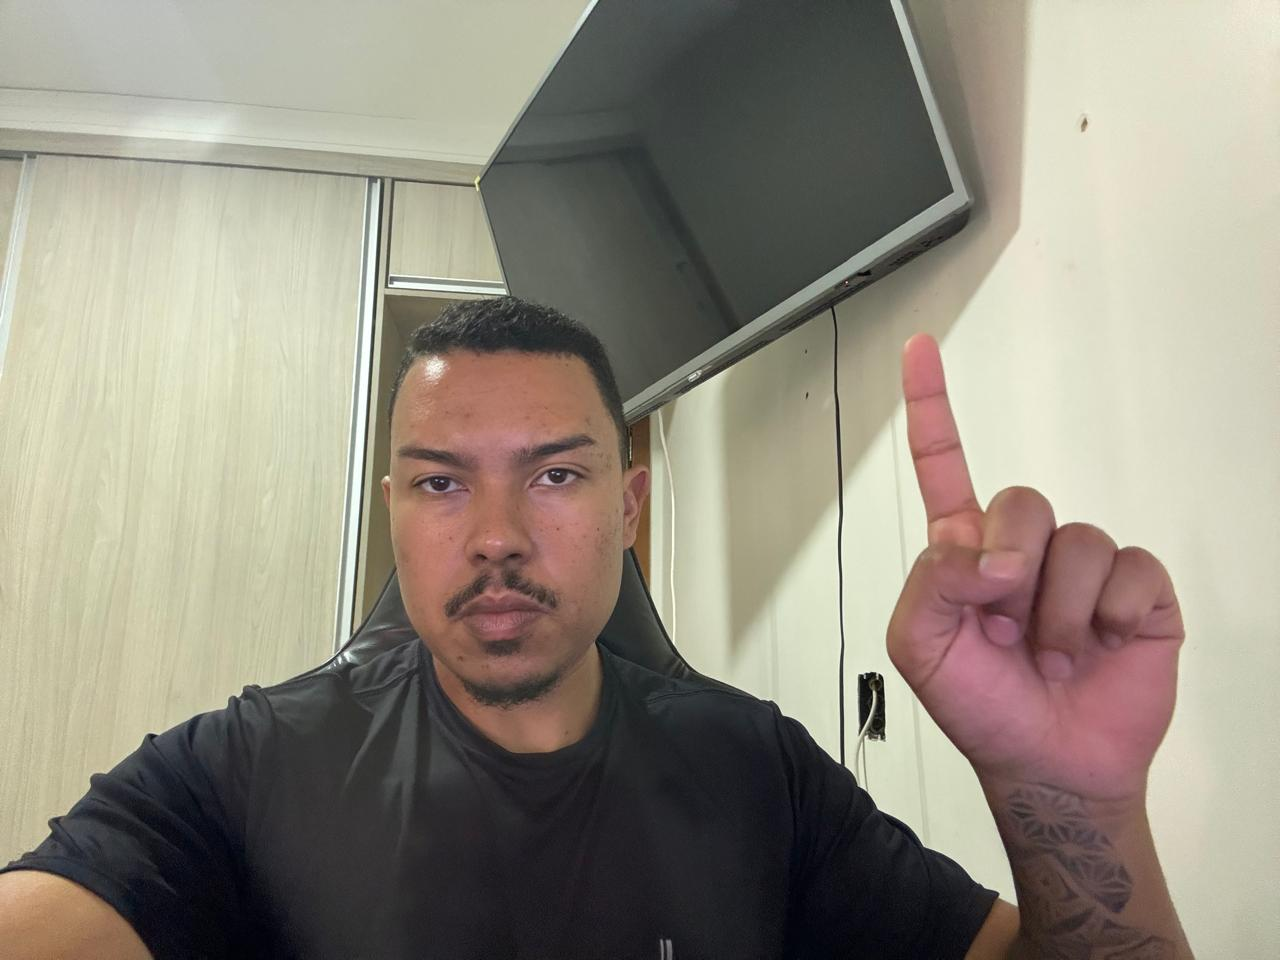z: (868, 322, 1201, 810)
